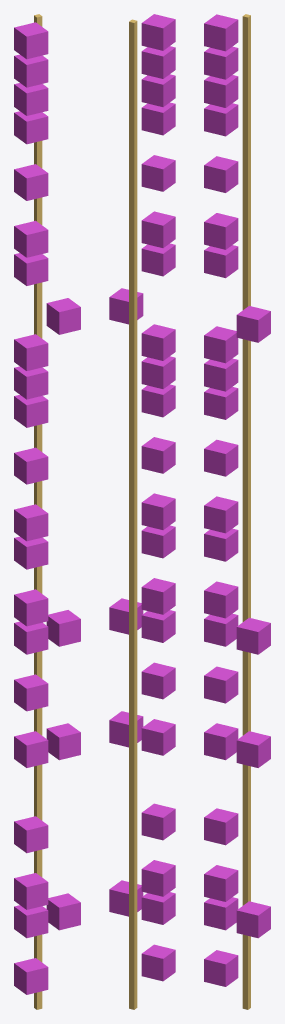
File: GENESIS.gltf
3 renders of one model, left to right at view 1: azimuth 30°, elevation 25°; view 2: azimuth 150°, elevation 25°; view 3: azimuth 330°, elevation 25°, orthographic.
Parts seen in each view (by area): view 1: plane0.stroke1, E.low.dot3 (×2), E.low.dot1 (×2), S.low.dot7 (×2), S.low.dot1 (×2), S.low.dot5 (×2), S.low.dot2 (×2), E.low.dot7 (×2), G.low.dot1, N.low.dot4, I.low.dot7, N.low.dot2 (+7 smaller); view 2: plane0.stroke1, E.low.dot1 (×2), S.low.dot1 (×2), E.low.dot3 (×2), S.low.dot7 (×2), S.low.dot2 (×2), E.low.dot7 (×2), S.low.dot5 (×2), N.low.dot2, I.low.dot1, G.low.dot1, I.low.dot7 (+7 smaller); view 3: plane0.stroke1, E.low.dot1 (×2), S.low.dot5 (×2), E.low.dot3 (×2), S.low.dot1 (×2), S.low.dot7 (×2), E.low.dot7 (×2), S.low.dot2 (×2), G.low.dot1, N.low.dot4, I.low.dot4, I.low.dot7 (+7 smaller).
Part boxes in pixels (box(x1,y1,x2,y2)): plane0.stroke1: box(34, 14, 42, 1009); E.low.dot3 (×2): box(14, 220, 48, 541); E.low.dot1 (×2): box(14, 164, 48, 484); S.low.dot7 (×2): box(14, 674, 48, 994); S.low.dot1 (×2): box(14, 589, 48, 909); S.low.dot5 (×2): box(46, 610, 80, 930); S.low.dot2 (×2): box(14, 621, 48, 938); E.low.dot7 (×2): box(14, 253, 48, 569); G.low.dot1: box(14, 22, 48, 59); N.low.dot4: box(46, 298, 80, 334); I.low.dot7: box(14, 816, 48, 853); N.low.dot2: box(14, 334, 48, 370); plane0.stroke1: box(129, 19, 137, 1009); E.low.dot1 (×2): box(141, 155, 175, 473); S.low.dot1 (×2): box(141, 578, 175, 896); E.low.dot3 (×2): box(141, 211, 175, 529); S.low.dot7 (×2): box(141, 662, 175, 981); S.low.dot2 (×2): box(141, 610, 175, 924); E.low.dot7 (×2): box(141, 243, 175, 558); S.low.dot5 (×2): box(109, 598, 143, 916); N.low.dot2: box(141, 324, 175, 360); I.low.dot1: box(141, 719, 175, 755); G.low.dot1: box(141, 14, 175, 50); I.low.dot7: box(141, 803, 175, 840); plane0.stroke1: box(242, 14, 250, 1009); E.low.dot1 (×2): box(204, 156, 238, 476); S.low.dot5 (×2): box(236, 617, 270, 938); E.low.dot3 (×2): box(204, 213, 238, 533); S.low.dot1 (×2): box(204, 581, 238, 901); S.low.dot7 (×2): box(204, 666, 238, 986); E.low.dot7 (×2): box(204, 245, 238, 561); S.low.dot2 (×2): box(204, 613, 238, 930); G.low.dot1: box(204, 14, 238, 51); N.low.dot4: box(236, 306, 270, 342); I.low.dot4: box(236, 731, 270, 767); I.low.dot7: box(204, 808, 238, 845).
Size of the model in its own units: 2 by 35 by 1.1.
